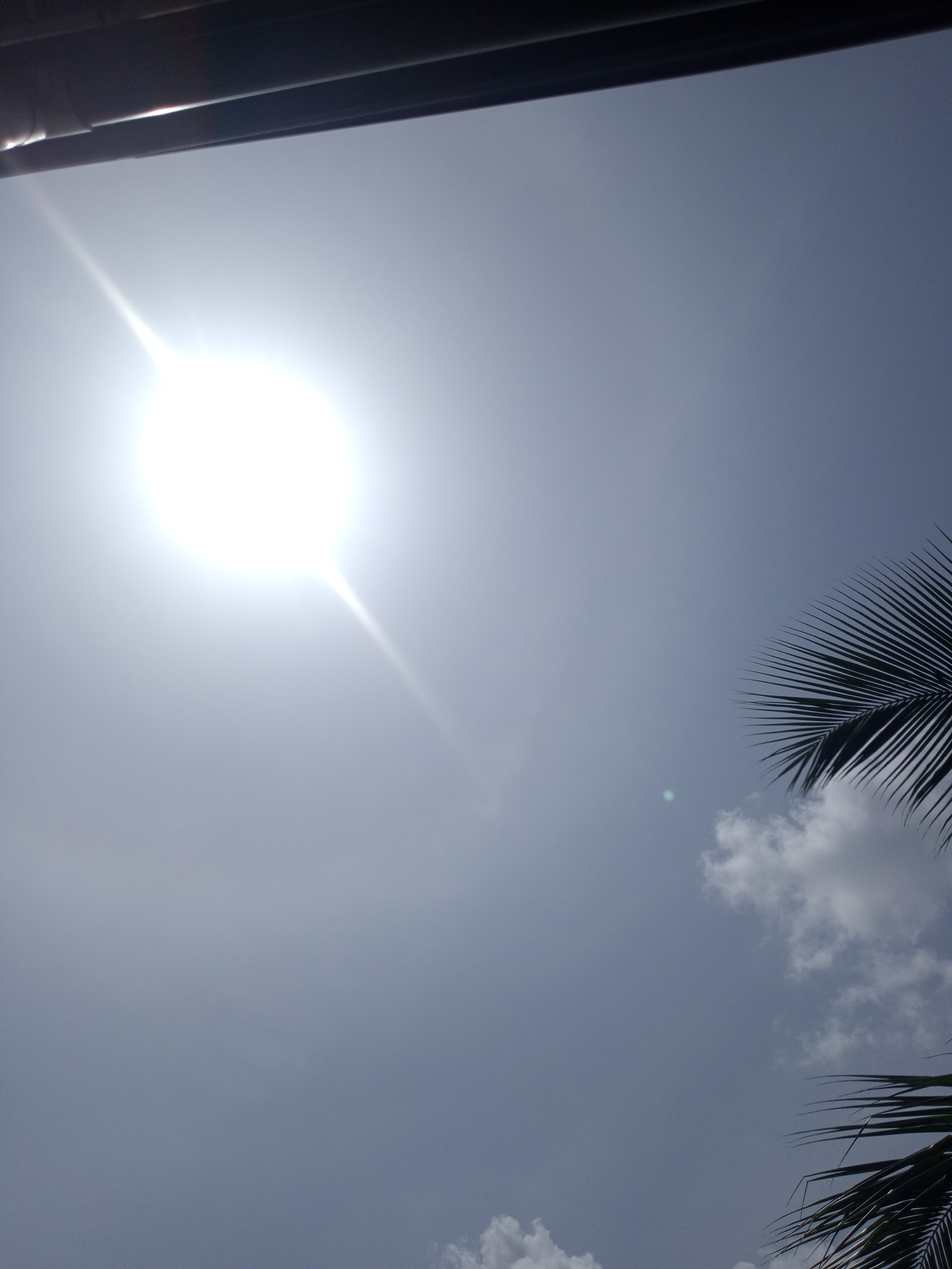sun: (48, 296, 436, 664)
